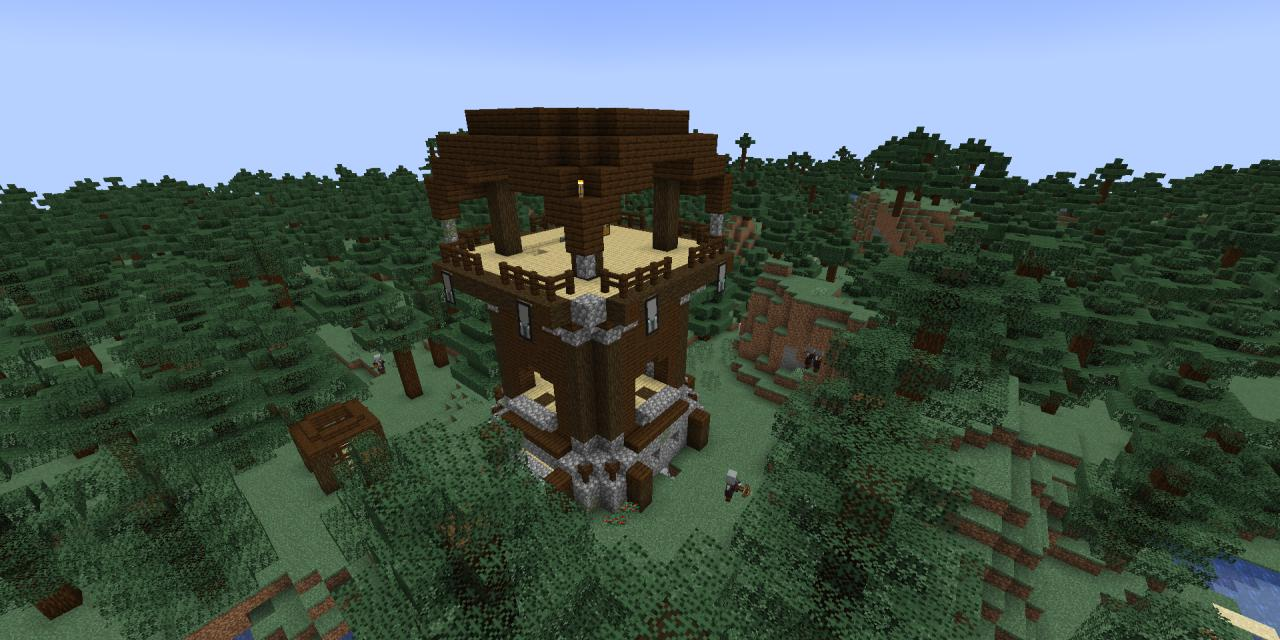pillager outpost: (414, 92, 744, 524)
